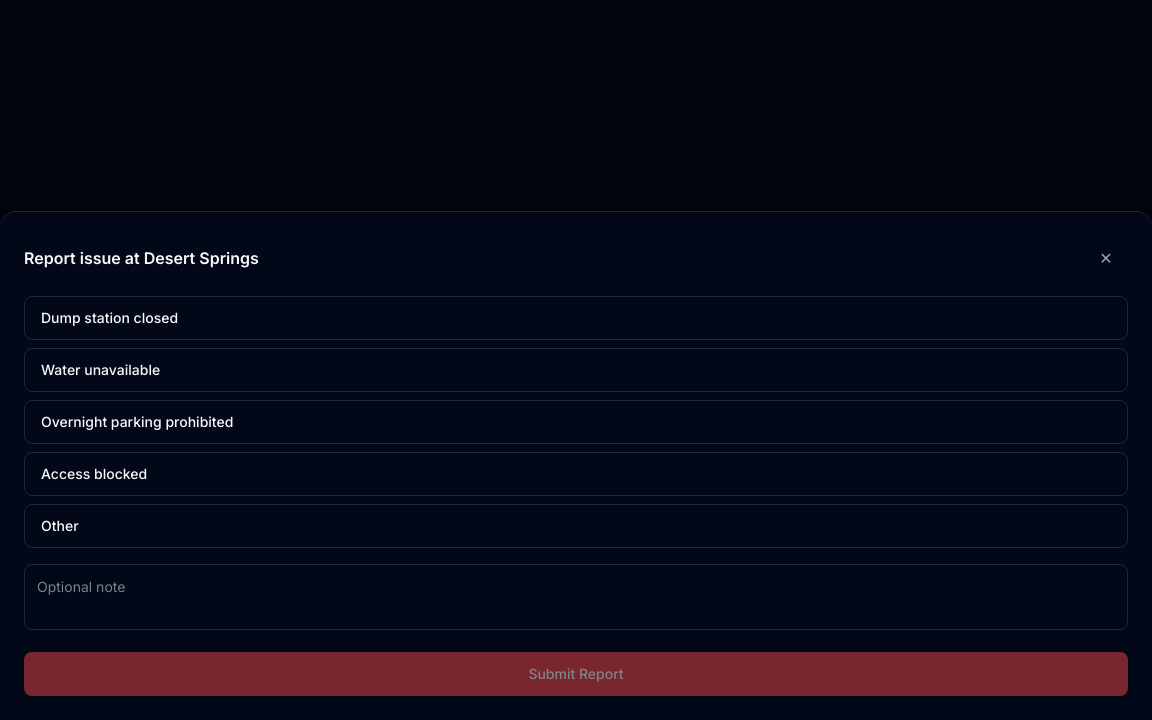
Test: IssueReportSheet › submit button is enabled after selecting a type (8.3)
Click the button "Dump station closed" at (110, 318), box [24, 296, 1128, 340]
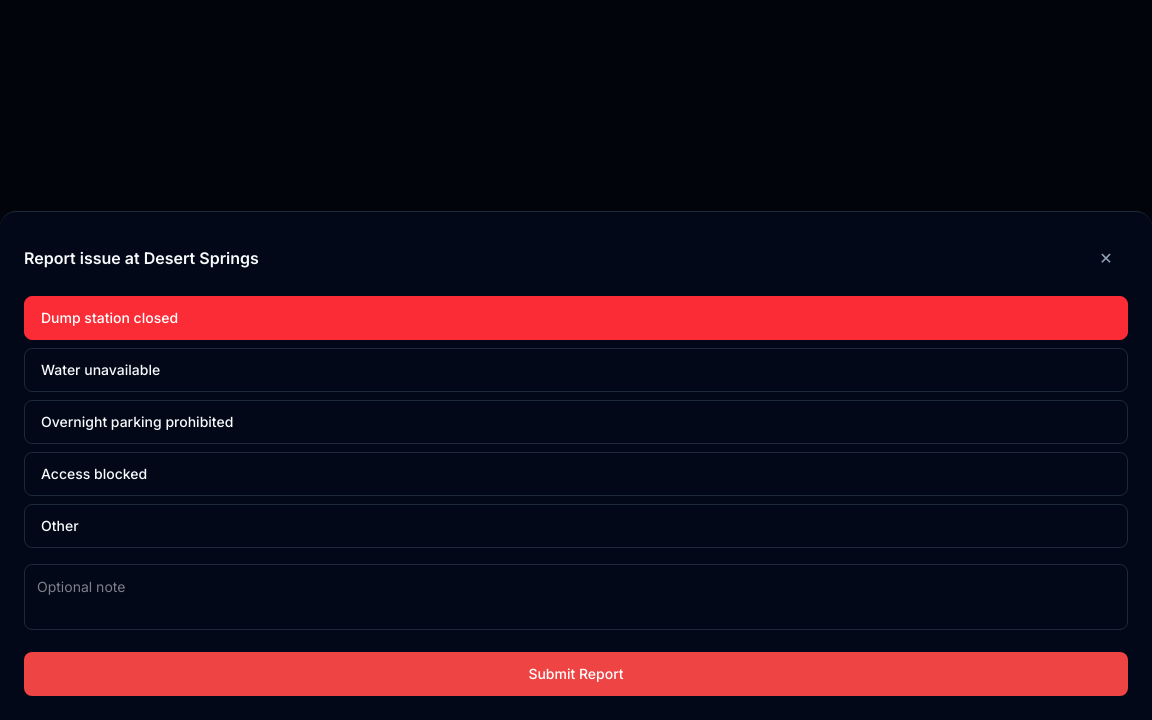
Now the button "Submit Report" is enabled, box [24, 652, 1128, 696]
